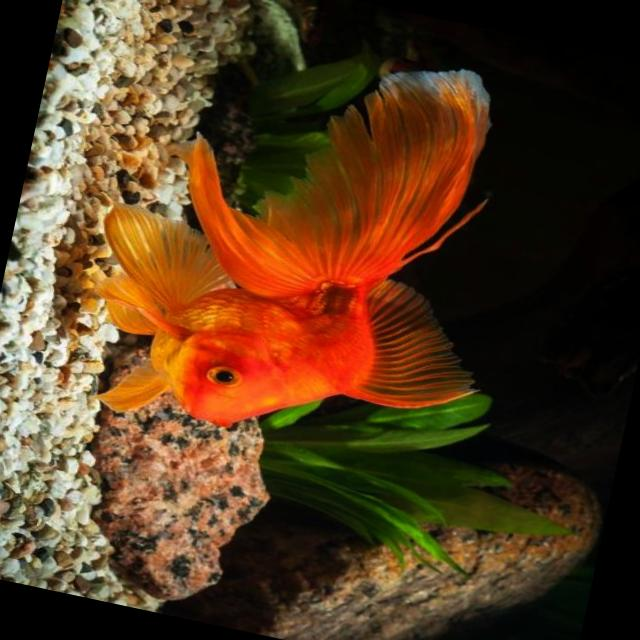GoldFish: (64, 0, 550, 489)
